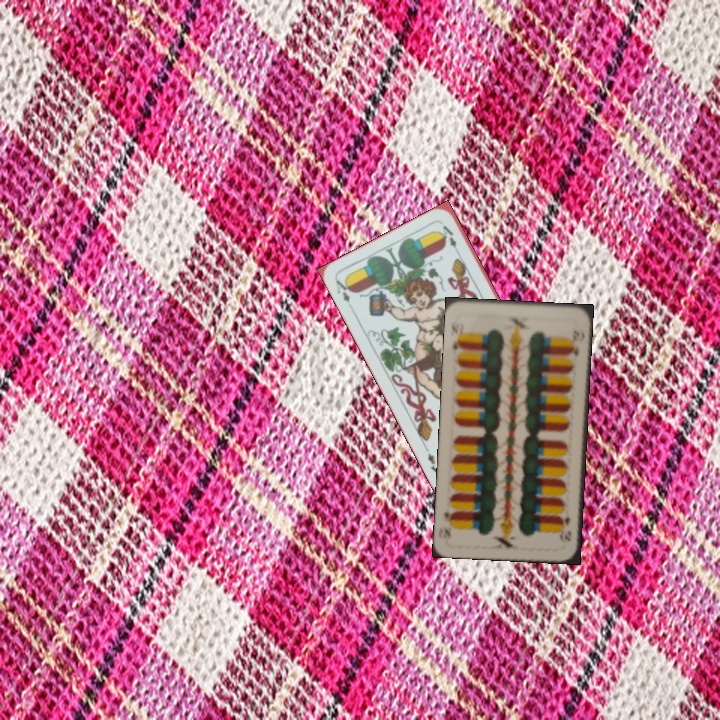E10: (448, 316, 466, 353), (557, 507, 574, 544)
EA: (332, 275, 355, 305)
